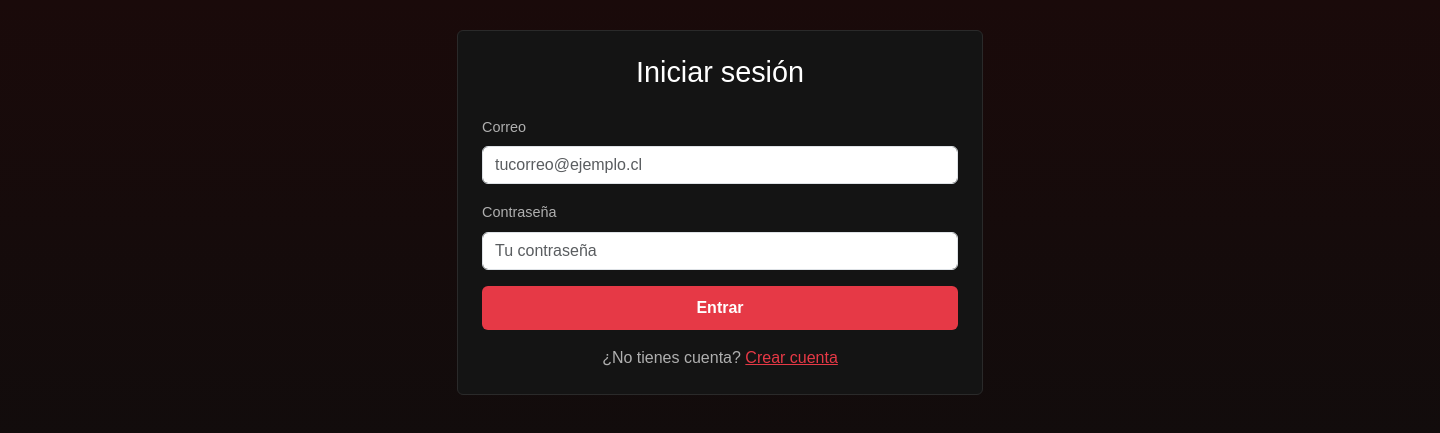
Test: Login (página) › con credenciales incorrectas muestra el error y no abre sesión
Type "admin@gmail.com" into the field labelled "Correo".
click(720, 165); type("admin@gmail.com")  # box [482,146,958,184]
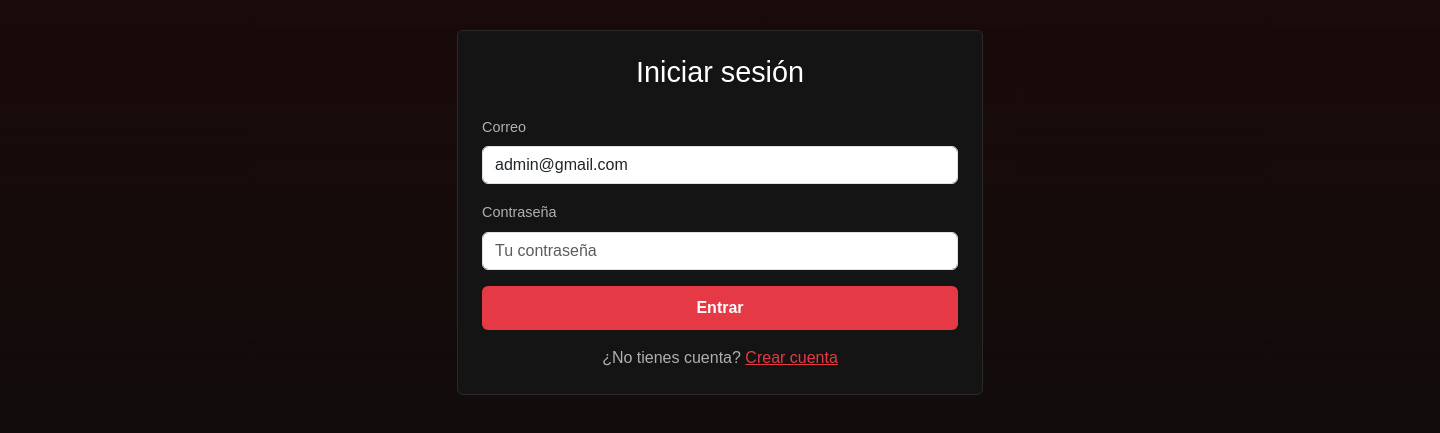
Type "incorrecta" into the password field labelled "Contraseña".
click(720, 251); type("incorrecta")  # box [482,232,958,270]
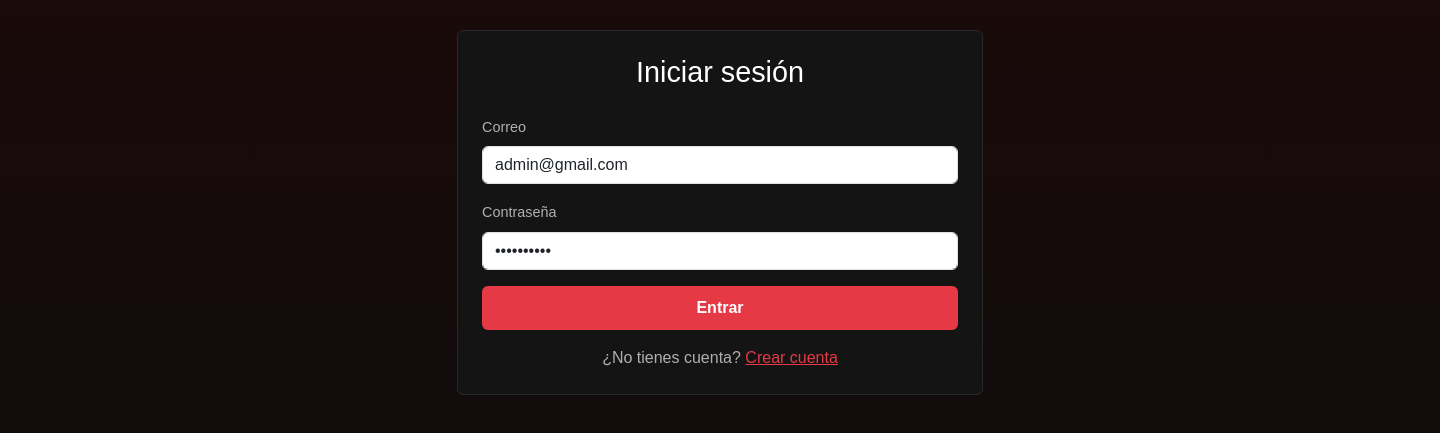
Click the button "Entrar".
click(720, 308)  # box [482,286,958,330]
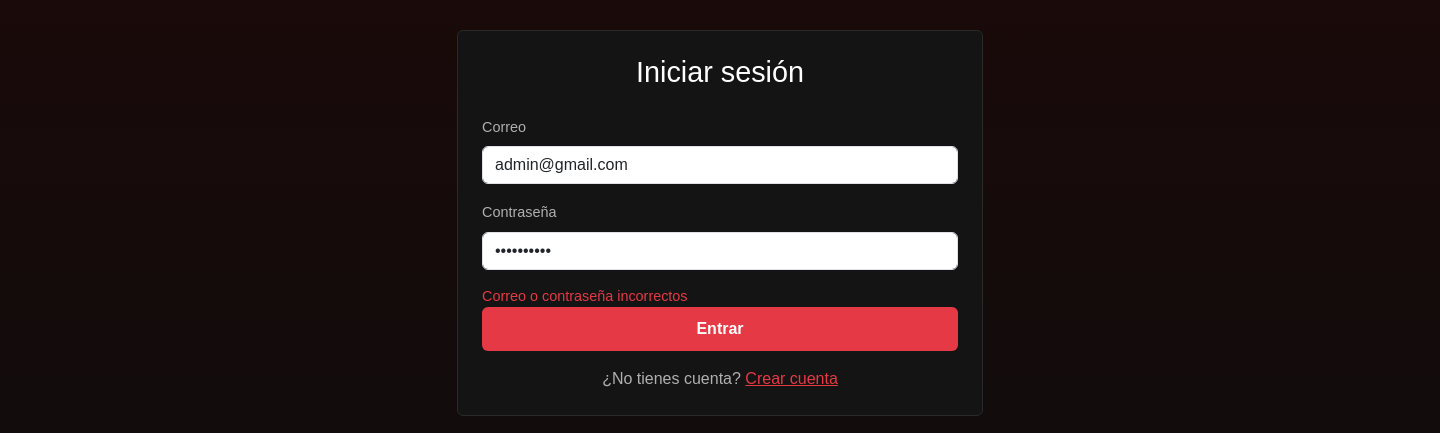
Expected: the text "Correo o contraseña incorrectos" is shown, [482,288,688,304]
